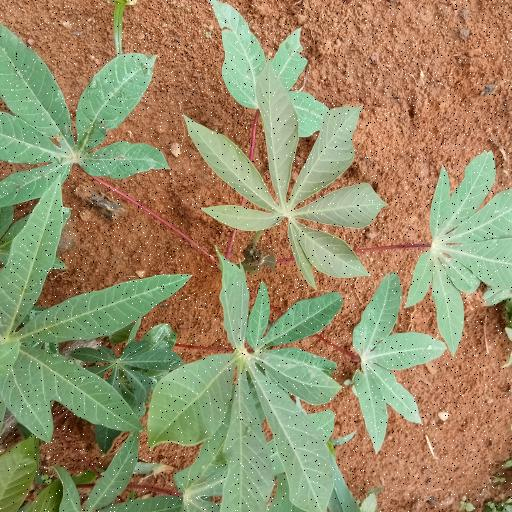Cassava_Mosaic: (192, 73, 375, 276), (0, 31, 157, 208)
